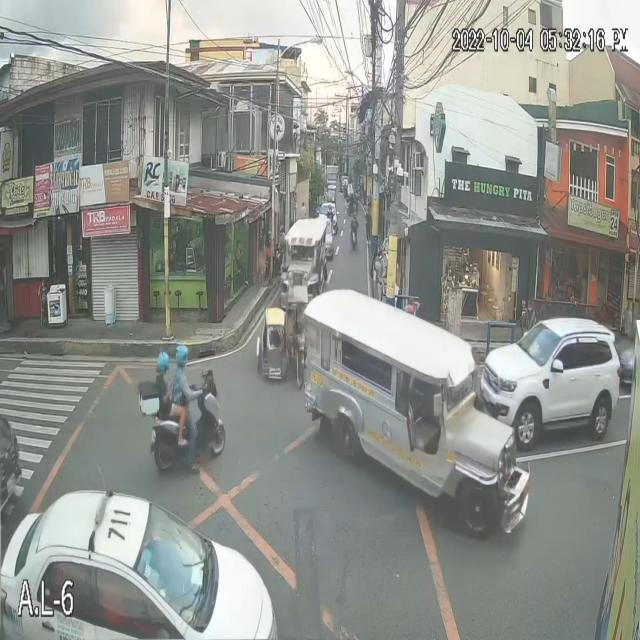Full-Faced: (153, 345, 173, 375), (173, 338, 191, 370), (348, 212, 358, 222)
